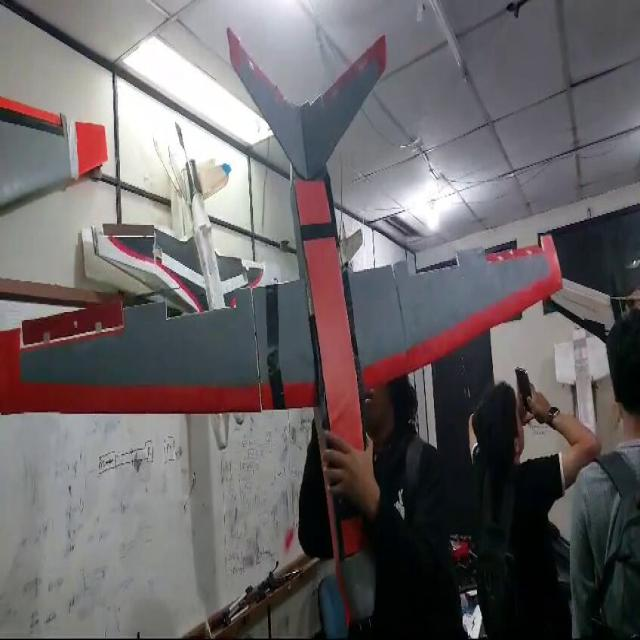plane: (0, 22, 564, 630)
